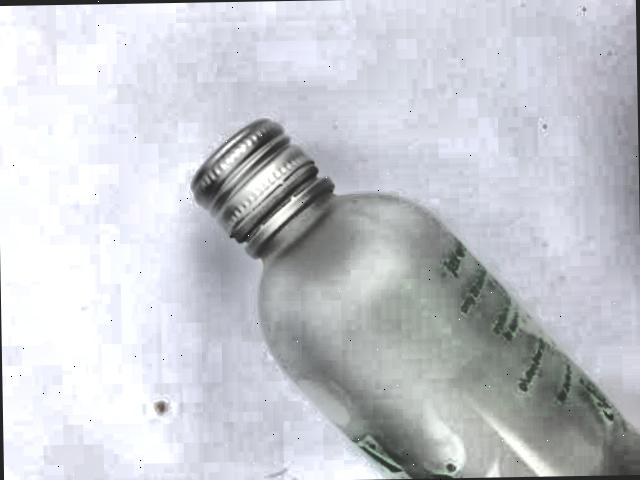Bottles: (161, 87, 640, 480)
